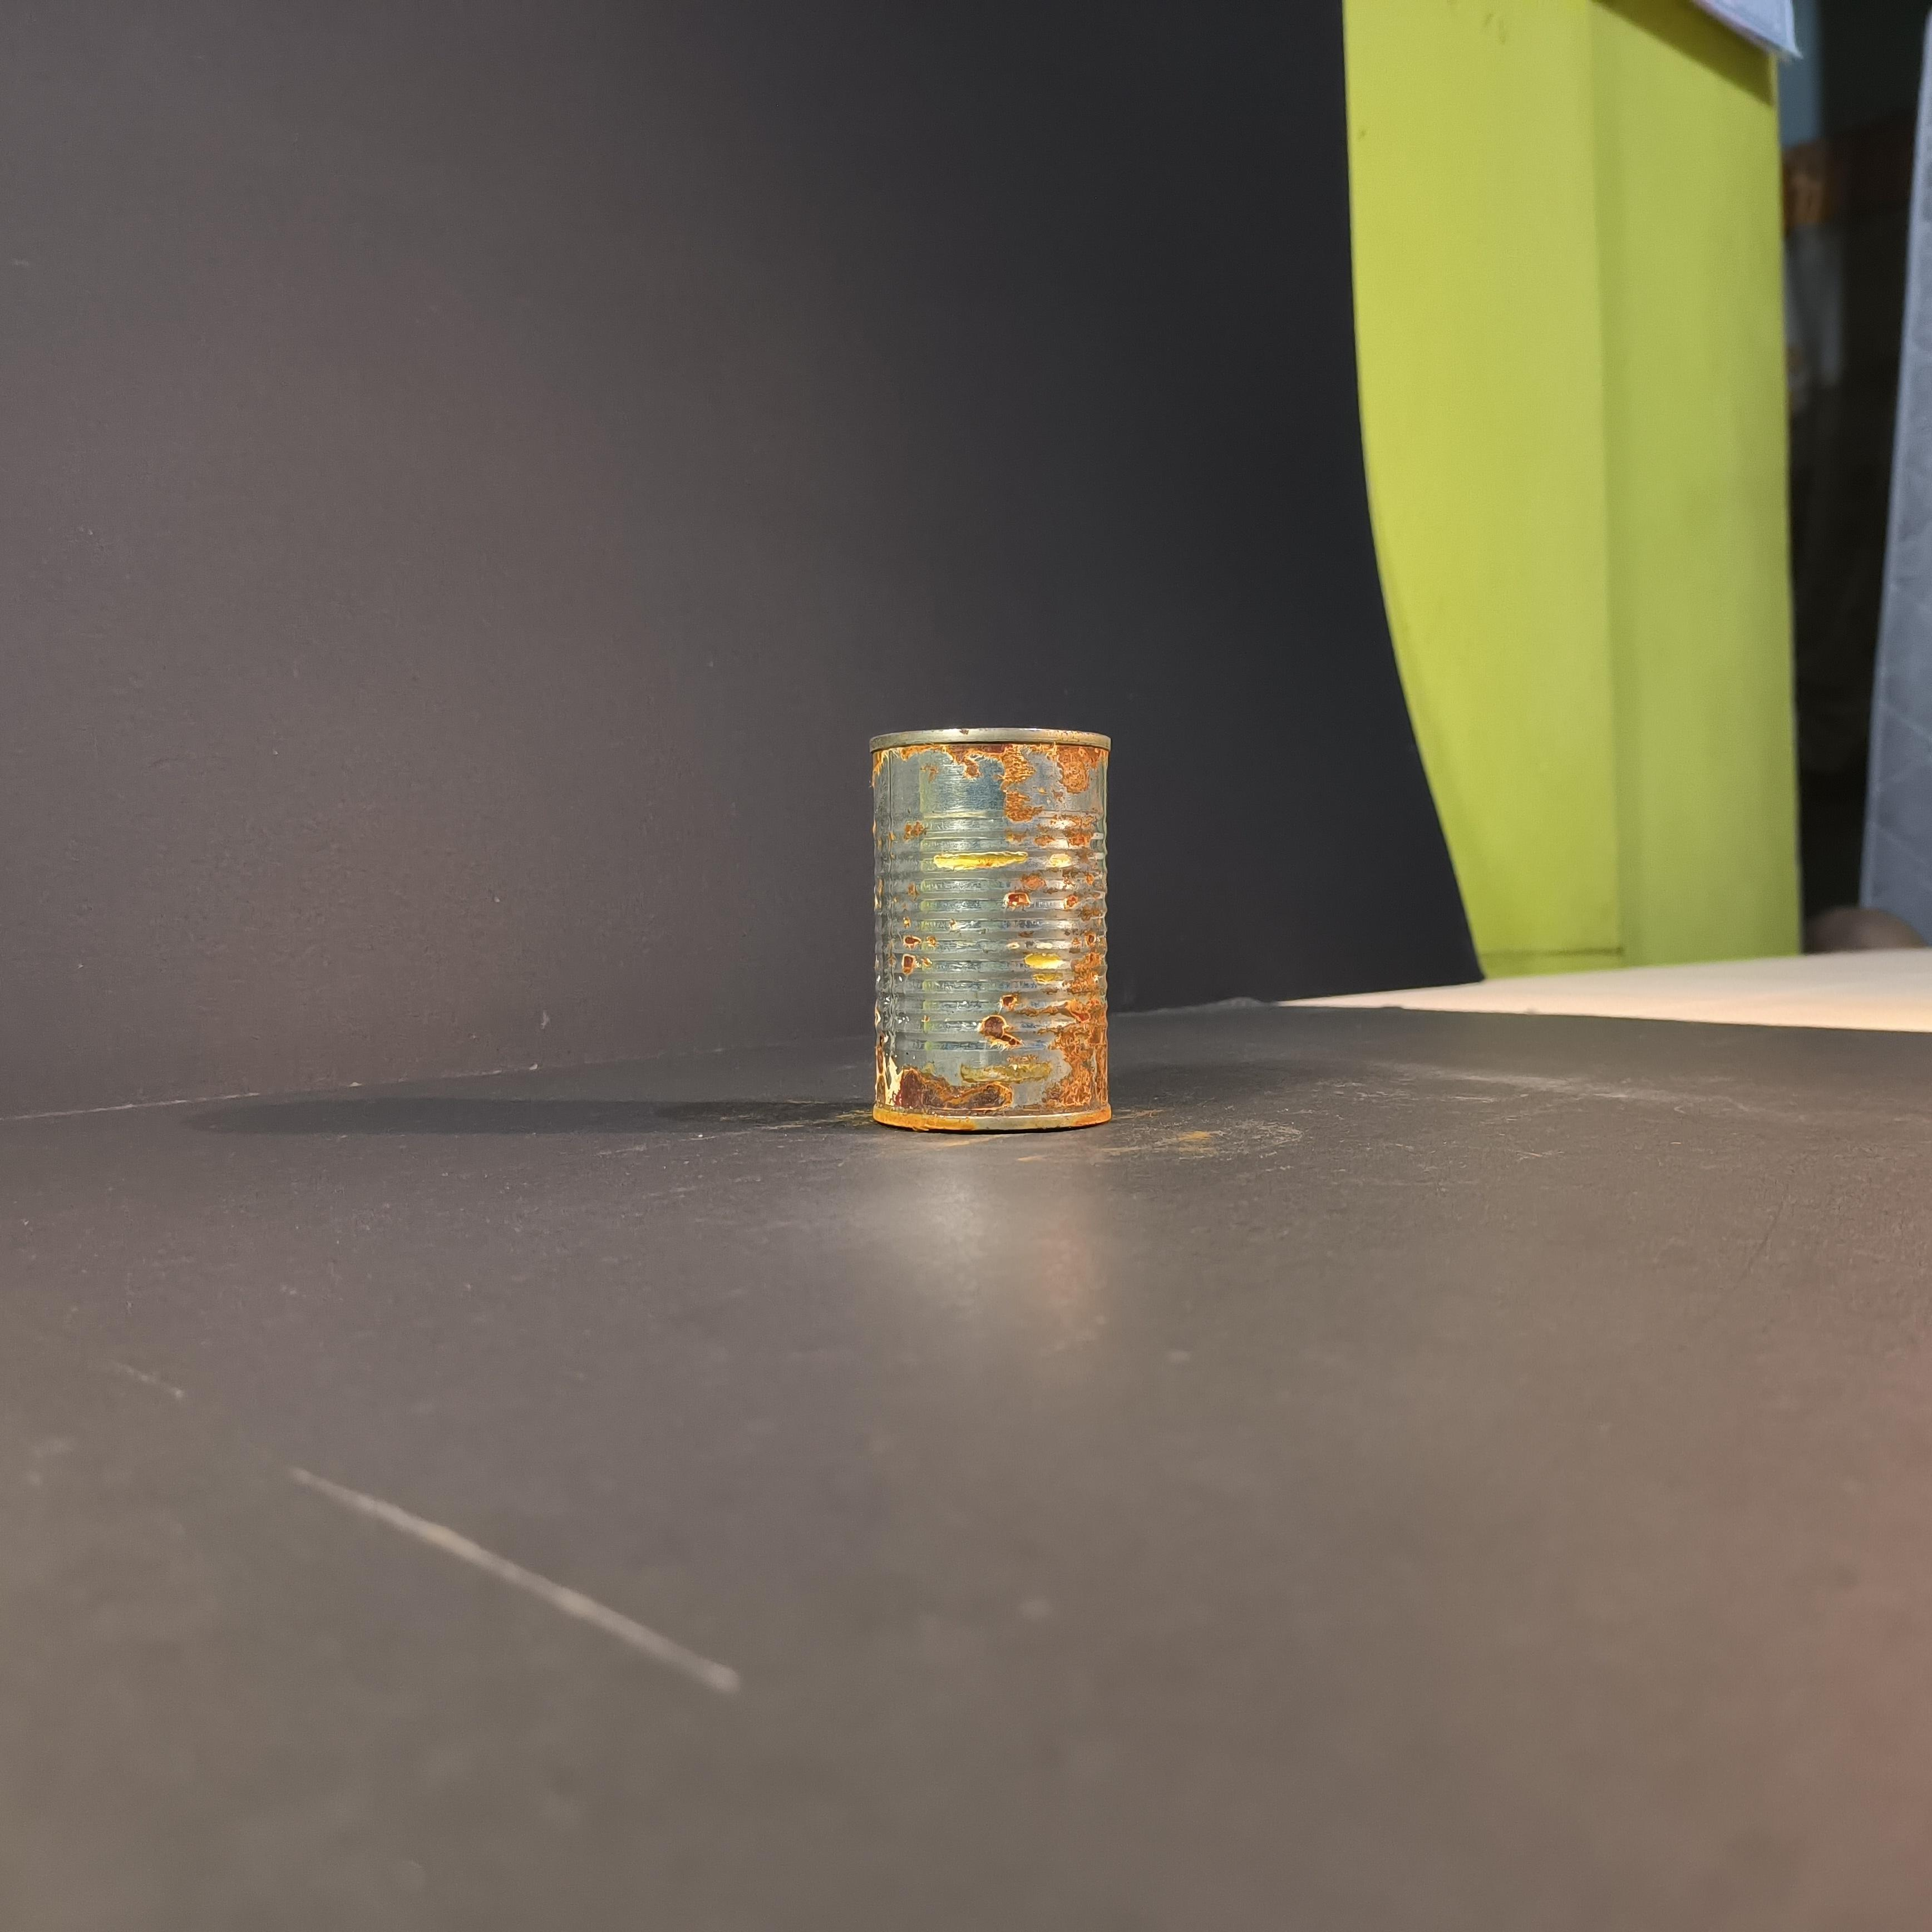Rusted: (863, 715, 1118, 1152)
